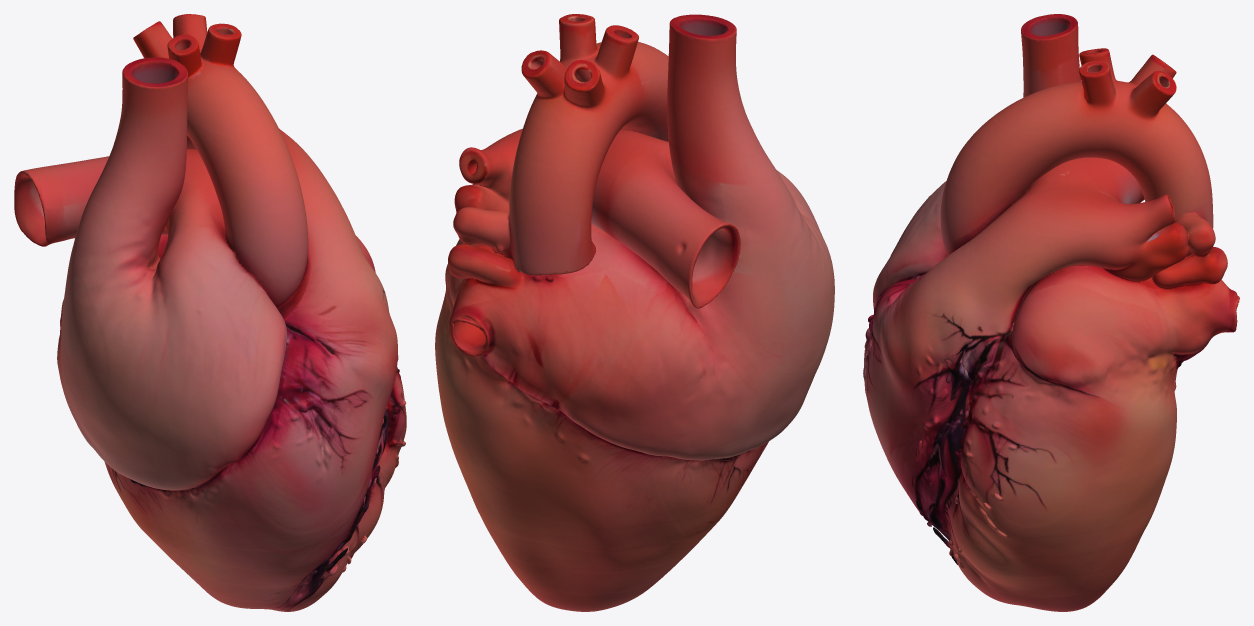
The picture shows the model from 3 angles, left to right: view 1: azimuth 30°, elevation 25°; view 2: azimuth 150°, elevation 25°; view 3: azimuth 270°, elevation 25°; orthographic projection. The views are drawn at different scales.
Visible parts, largest first — view 1: tripo_node_9eaecc28-1795-4124-93d4-c43dce393796; view 2: tripo_node_9eaecc28-1795-4124-93d4-c43dce393796; view 3: tripo_node_9eaecc28-1795-4124-93d4-c43dce393796.
Boxes of the visible parts, <box> form: tripo_node_9eaecc28-1795-4124-93d4-c43dce393796: <box>14,14,406,611</box>; tripo_node_9eaecc28-1795-4124-93d4-c43dce393796: <box>435,14,834,611</box>; tripo_node_9eaecc28-1795-4124-93d4-c43dce393796: <box>863,14,1239,611</box>.
Size of the model in its own units: 0.5965 by 1 by 0.6434.
Materials: 1 (1 with a texture image).
